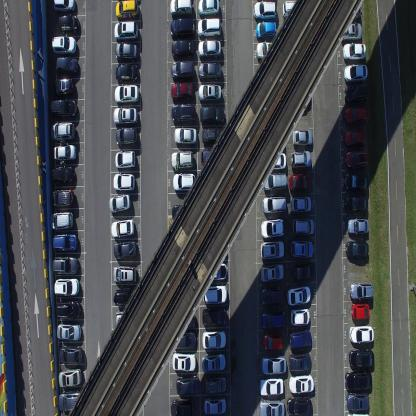car: (345, 368, 373, 390), (57, 390, 84, 412), (52, 254, 79, 275), (344, 80, 369, 102), (170, 38, 195, 60), (260, 217, 285, 239), (286, 284, 311, 306), (259, 375, 284, 397), (113, 82, 139, 103), (56, 321, 82, 342), (49, 98, 77, 117), (50, 187, 74, 209), (202, 352, 226, 374), (172, 172, 196, 194), (343, 60, 368, 81), (113, 20, 138, 41), (197, 38, 222, 59), (349, 347, 374, 368), (58, 345, 84, 365), (344, 105, 370, 125), (202, 284, 228, 304), (113, 287, 140, 306), (289, 328, 312, 350), (110, 219, 134, 240), (50, 120, 74, 141), (50, 210, 74, 231), (58, 367, 82, 388), (170, 59, 194, 80), (292, 261, 316, 282), (51, 34, 76, 54), (171, 103, 196, 123), (170, 17, 195, 37), (262, 172, 287, 192), (259, 239, 284, 259), (261, 354, 286, 374), (289, 374, 314, 394), (349, 324, 374, 344), (48, 77, 74, 96), (52, 232, 78, 251), (55, 300, 81, 319), (53, 278, 80, 296), (113, 170, 135, 192), (176, 375, 199, 396), (288, 171, 311, 192), (342, 39, 366, 59), (344, 172, 368, 192), (113, 240, 137, 260), (173, 125, 197, 145), (197, 17, 221, 37), (261, 308, 285, 328), (50, 165, 75, 184), (201, 306, 226, 325), (199, 105, 224, 124), (262, 195, 287, 214), (287, 396, 312, 415), (255, 42, 281, 60), (114, 310, 140, 328), (115, 125, 138, 145), (115, 0, 138, 20), (55, 56, 78, 76), (282, 0, 305, 20), (253, 0, 276, 20), (344, 194, 367, 214), (198, 82, 221, 102), (290, 239, 313, 259), (261, 286, 284, 306), (350, 281, 373, 301), (114, 62, 138, 81), (345, 150, 369, 169), (345, 240, 369, 259), (202, 330, 226, 349), (172, 352, 196, 371), (260, 263, 284, 282), (345, 391, 369, 410), (112, 106, 137, 124), (200, 148, 225, 166), (108, 193, 130, 213), (204, 395, 226, 415), (204, 373, 226, 393), (291, 148, 311, 170), (290, 194, 312, 214), (292, 216, 314, 236), (173, 330, 196, 349), (170, 82, 193, 101), (198, 61, 221, 80), (288, 352, 311, 371), (112, 265, 136, 283), (203, 262, 227, 280), (170, 150, 194, 168), (201, 126, 225, 144), (52, 144, 77, 161), (58, 12, 79, 32), (340, 1, 361, 21), (255, 20, 276, 40), (262, 332, 283, 352), (114, 149, 136, 168), (343, 129, 365, 148), (265, 151, 287, 170), (115, 42, 138, 60), (170, 397, 193, 415), (173, 310, 196, 328), (259, 400, 284, 416), (340, 21, 362, 39), (347, 217, 369, 235), (292, 128, 314, 146), (290, 307, 310, 326), (197, 0, 220, 16), (169, 0, 192, 16), (350, 302, 370, 320), (52, 0, 75, 12), (346, 410, 370, 415)
